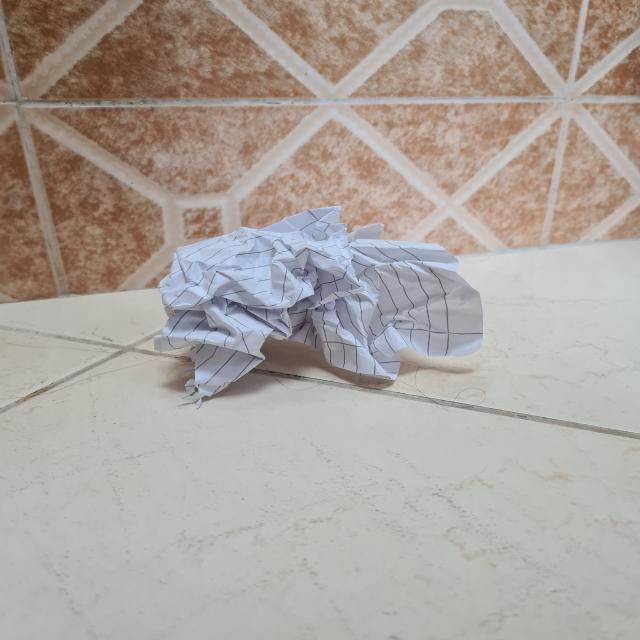Paper: (170, 203, 493, 395)
